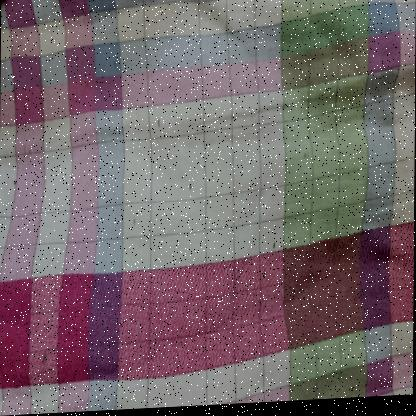spot: (181, 181, 197, 199), (37, 346, 49, 370), (266, 236, 279, 258), (19, 141, 36, 157), (153, 111, 165, 133), (127, 210, 139, 228), (6, 175, 19, 190), (111, 54, 119, 76), (296, 152, 307, 168), (81, 81, 94, 93), (305, 219, 312, 233), (47, 53, 56, 62)
